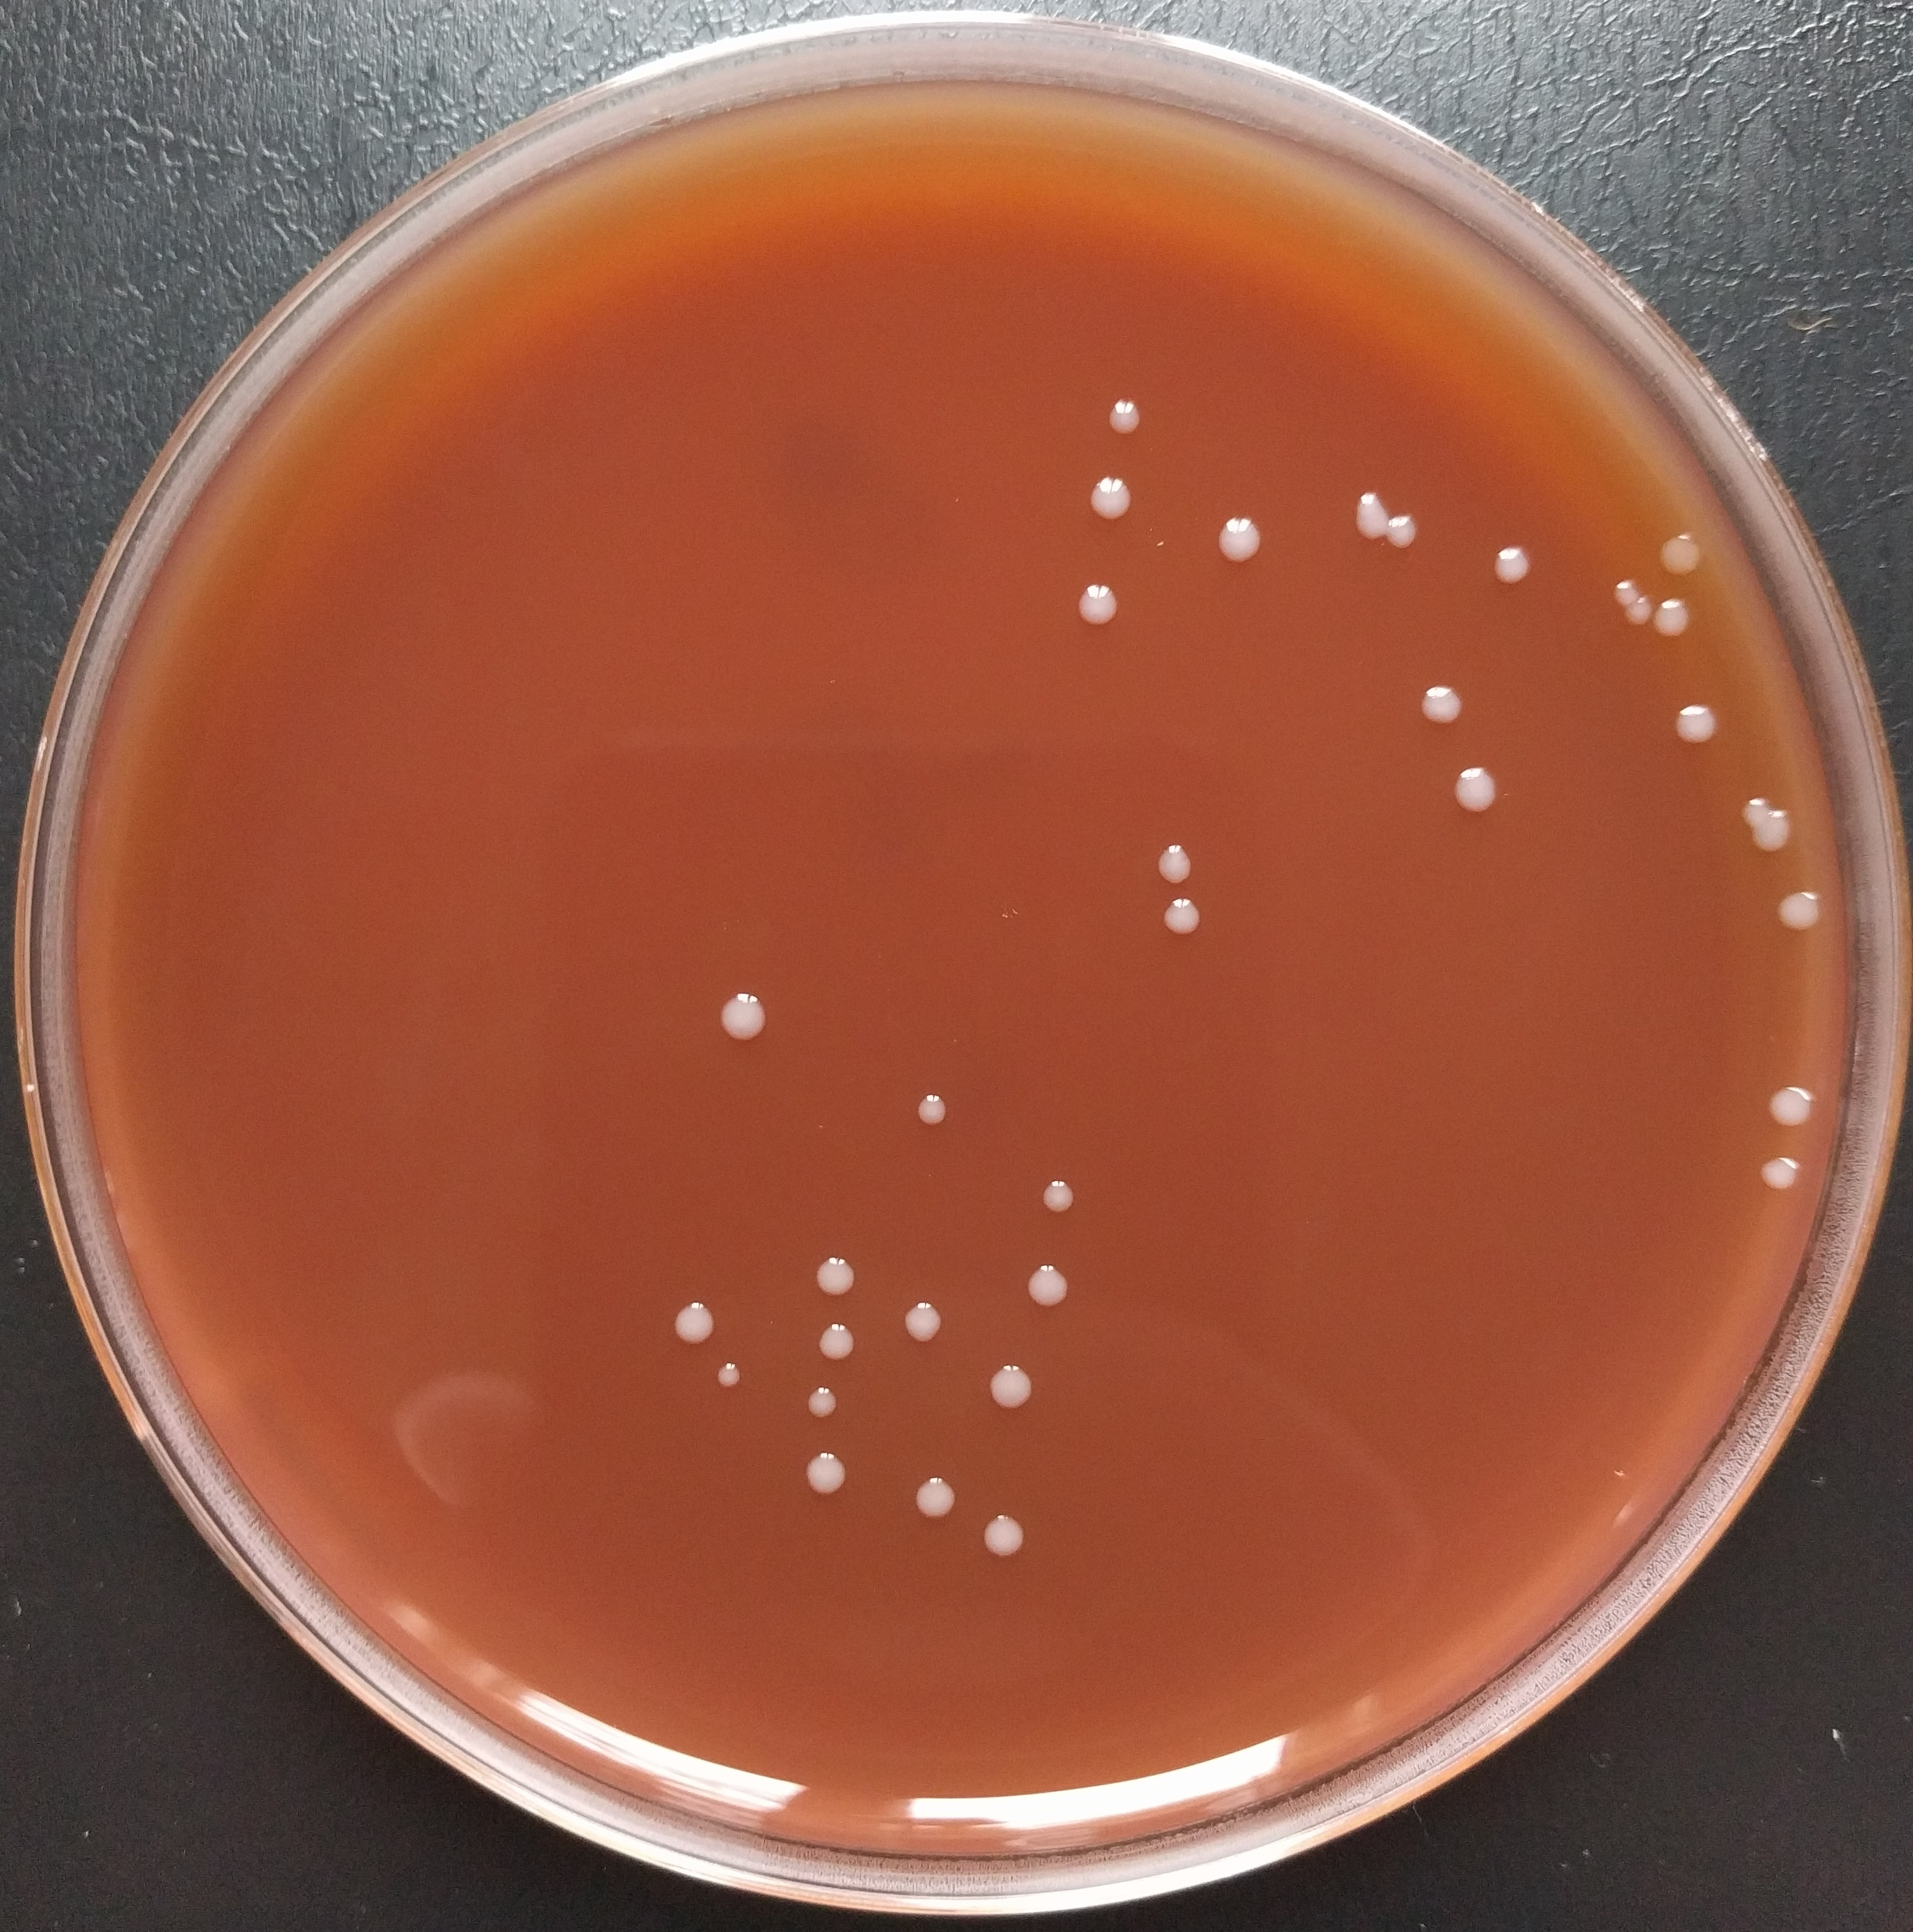sp16: (709, 949, 794, 1051), (1386, 657, 1465, 741), (1195, 501, 1268, 590), (897, 1063, 967, 1156), (902, 1452, 985, 1531), (1437, 734, 1507, 823), (783, 1443, 871, 1512), (806, 1223, 876, 1303), (1016, 1237, 1090, 1312), (1084, 466, 1163, 536), (1752, 872, 1825, 946), (1340, 457, 1396, 554), (1147, 821, 1218, 897), (974, 1352, 1055, 1417), (1144, 881, 1237, 937), (701, 1342, 762, 1417), (1669, 690, 1734, 758), (1761, 1063, 1825, 1130), (664, 1282, 720, 1357), (1655, 515, 1712, 590), (1093, 392, 1172, 443), (1070, 566, 1140, 622), (788, 1366, 853, 1426), (1747, 1142, 1811, 1202), (971, 1515, 1035, 1573), (897, 1282, 953, 1349), (1650, 580, 1712, 636), (1034, 1165, 1086, 1230), (1729, 793, 1789, 846), (1491, 543, 1561, 585), (1605, 594, 1657, 650), (806, 1315, 857, 1366), (1386, 506, 1447, 545), (1596, 566, 1633, 599)
